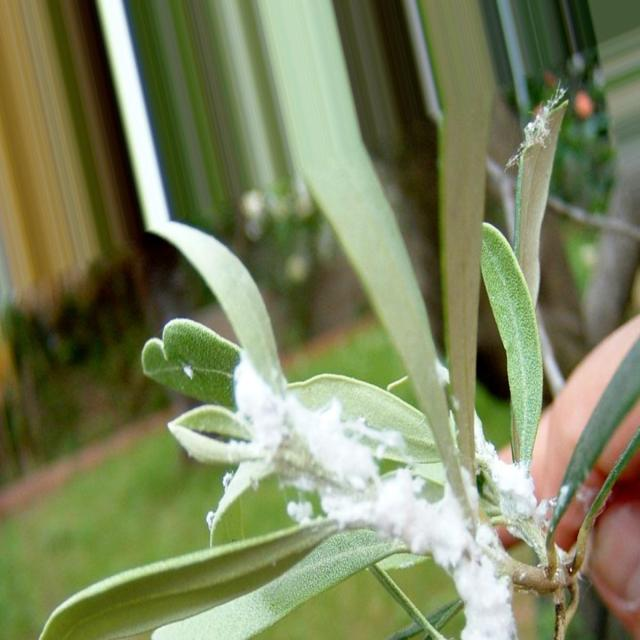Psyllid: (207, 368, 378, 540), (321, 469, 476, 577), (474, 412, 569, 561), (452, 525, 517, 639), (506, 79, 569, 171), (375, 427, 411, 465), (286, 492, 322, 525)
